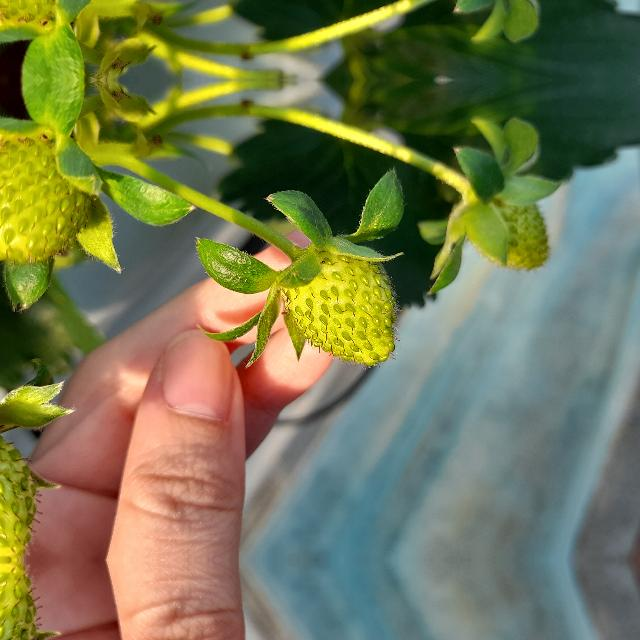Health_25: (280, 250, 402, 370), (0, 130, 96, 266), (0, 0, 96, 30)
